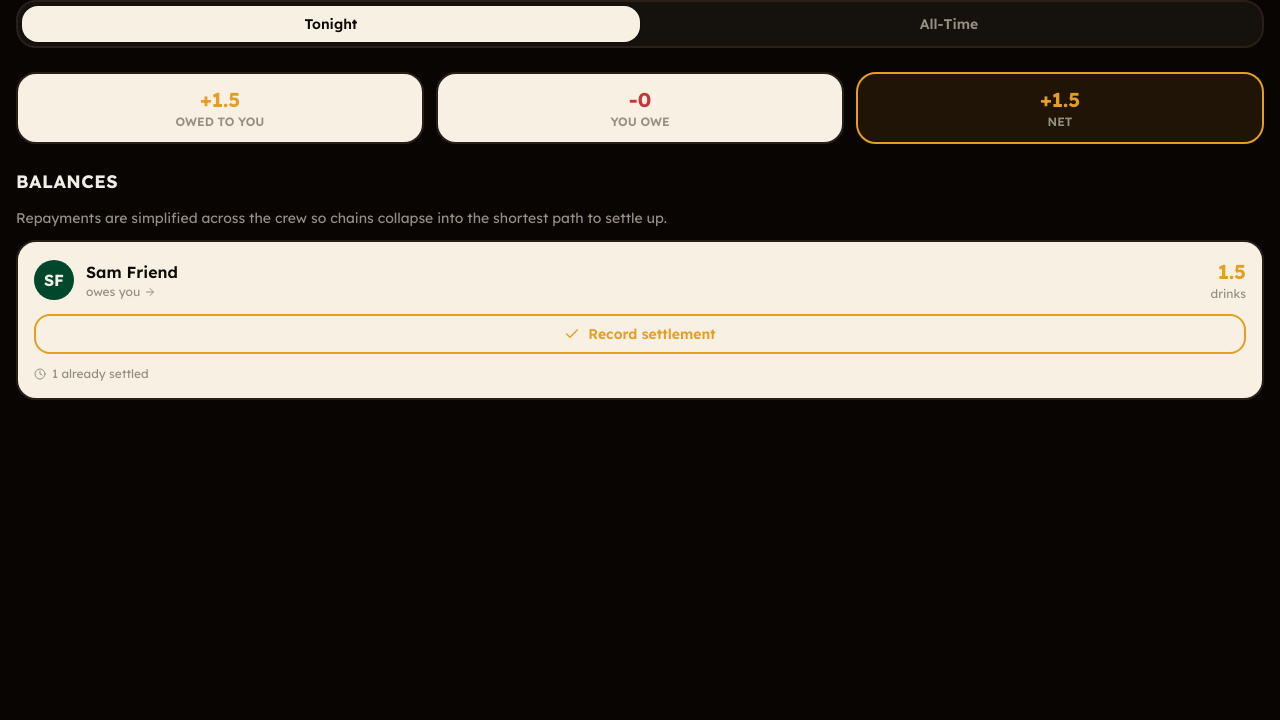
Test: LedgerScreen › opens a settlement dialog and records the selected amount for the aggregate pair
The width and height of the screenshot is (1280, 720).
Later steps or results of the test are not shown.
Click the button "Record settlement": {"x": 640, "y": 334} [34,314,1246,354]
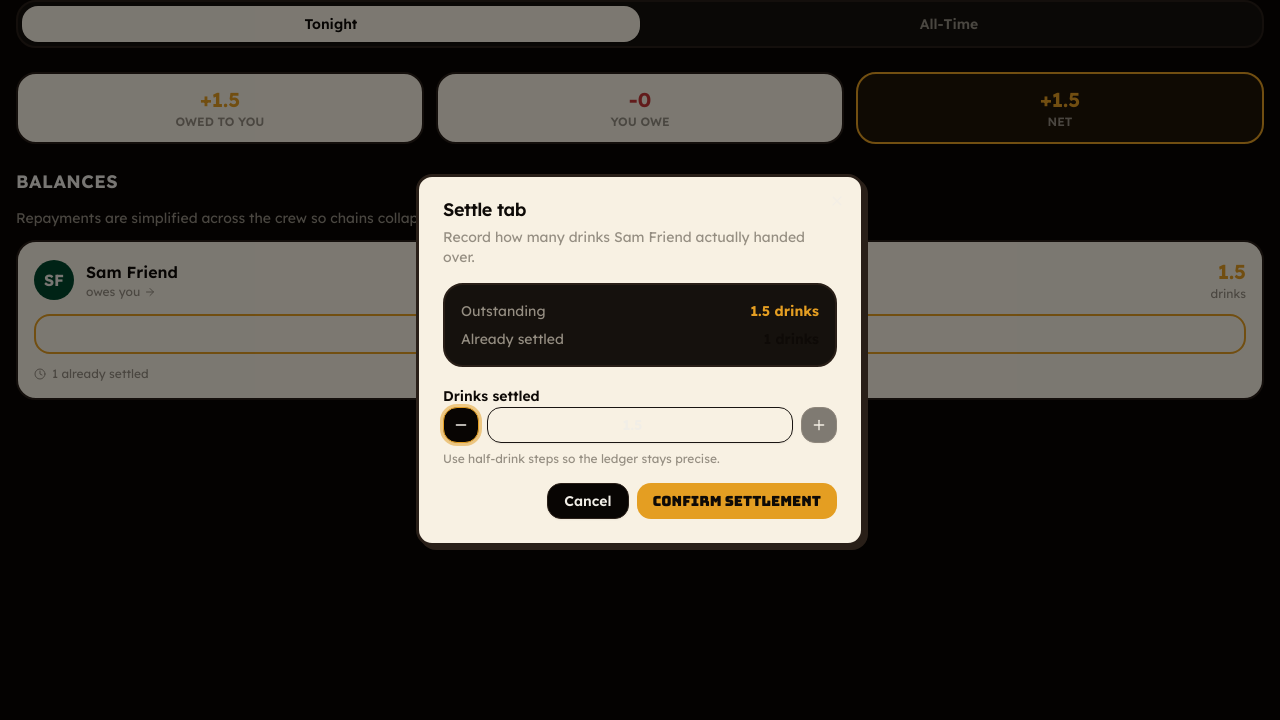
expect the heading "Settle tab" is shown: met, box [443,198,526,221]
expect the number field named "Settlement amount" holds "1.5": met, box [487,407,793,443]
